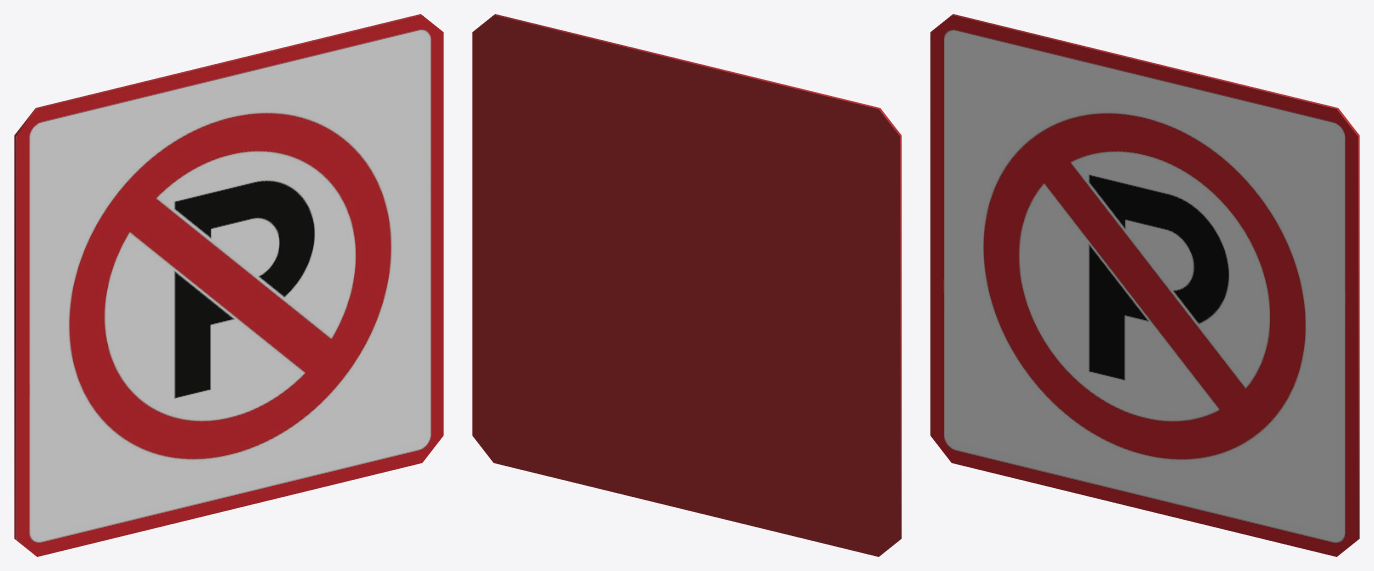
File: SM_sign_04.glb
3 views of the same model, side by side, from view 1: azimuth 30°, elevation 25°; view 2: azimuth 150°, elevation 25°; view 3: azimuth 330°, elevation 25° (orthographic).
Visible parts, largest first — view 1: SM_sign_04; view 2: SM_sign_04; view 3: SM_sign_04.
Part boxes in pixels (<box>): SM_sign_04: <box>14,14,443,556</box>; SM_sign_04: <box>472,14,901,556</box>; SM_sign_04: <box>930,14,1359,556</box>.
Size of the model in its own units: 1.26 by 1.26 by 0.00838.
1 material, 1 textured.
